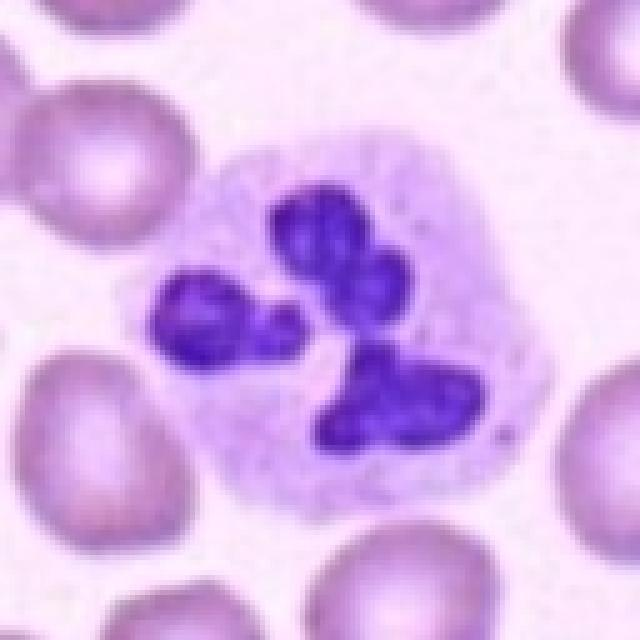neutro: (98, 67, 601, 590)
